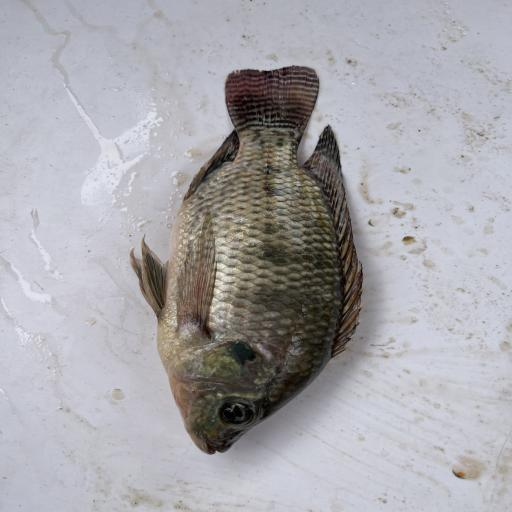Tilapia: (129, 65, 364, 455)
